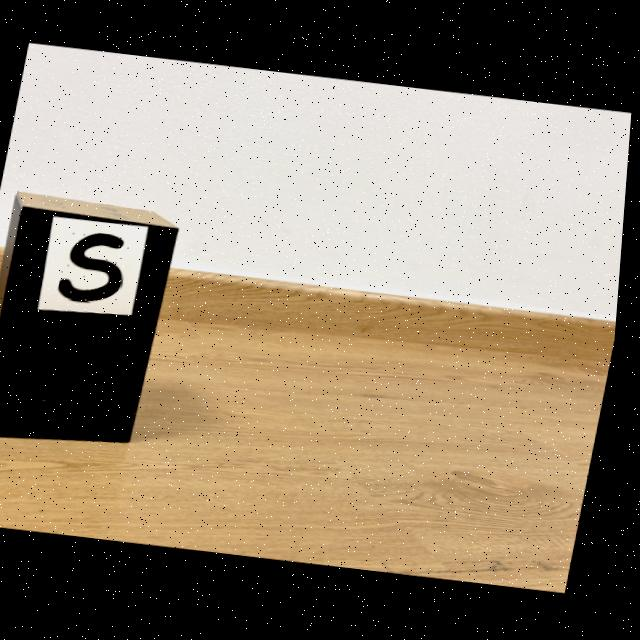S: (62, 234, 127, 302)
